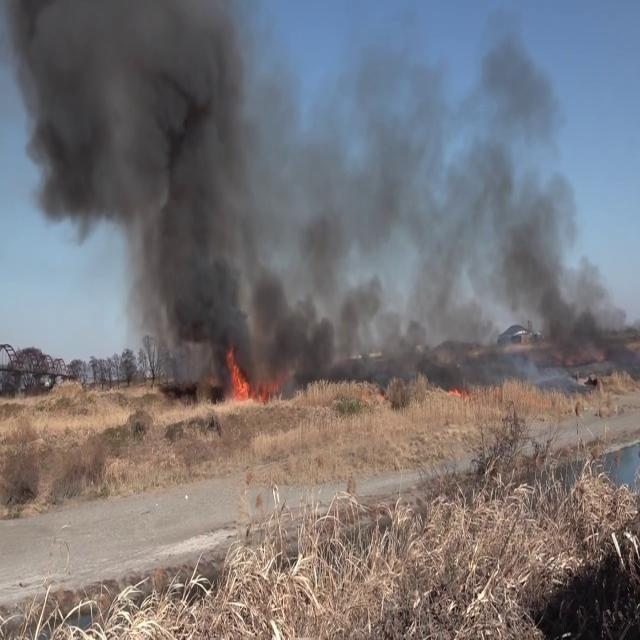Fire: (218, 342, 297, 408), (220, 342, 254, 408)
Smoke: (275, 14, 636, 372), (1, 0, 293, 380)
